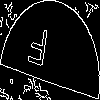F: (25, 25, 50, 76)
